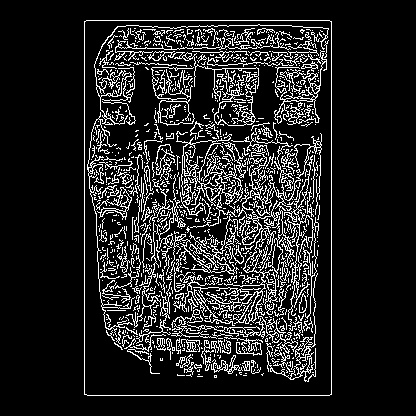buddha-sleeping: (102, 128, 226, 260)
